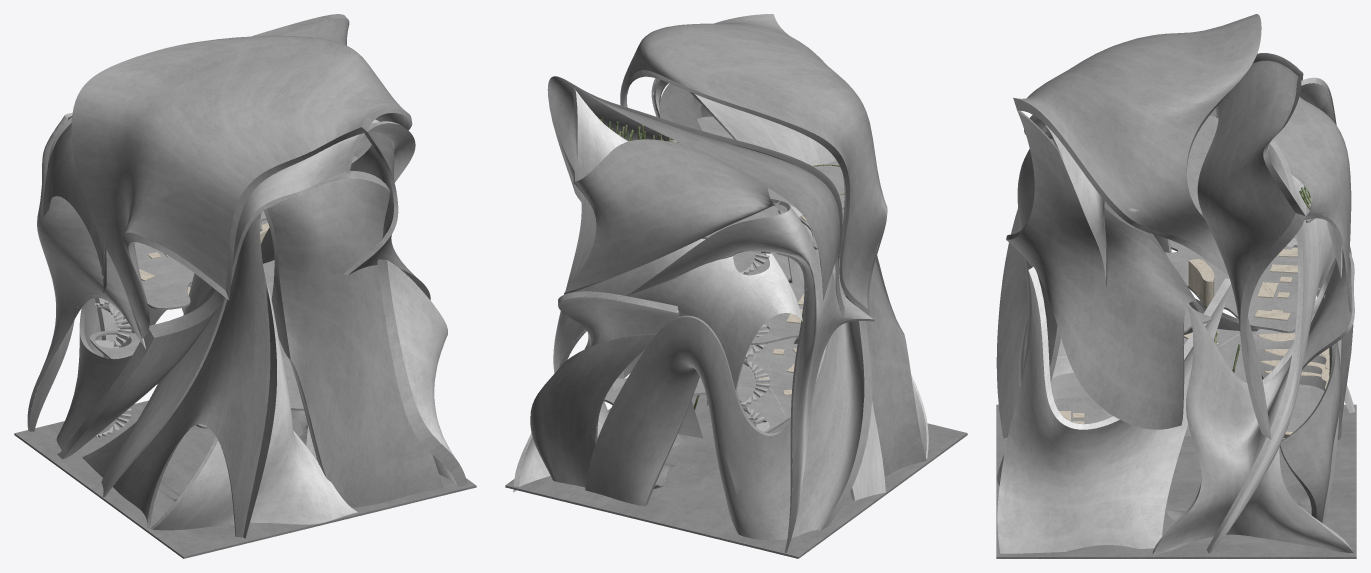
3 views of the same model, side by side, from view 1: azimuth 30°, elevation 25°; view 2: azimuth 150°, elevation 25°; view 3: azimuth 270°, elevation 25° (orthographic). The views are drawn at different scales.
Parts seen in each view (by area): view 1: KDOCIINE-50K-2024 yeni 2; view 2: KDOCIINE-50K-2024 yeni 2; view 3: KDOCIINE-50K-2024 yeni 2.
Part boxes in pixels (x1,y1,x2,y2): KDOCIINE-50K-2024 yeni 2: (14, 14, 476, 558); KDOCIINE-50K-2024 yeni 2: (505, 14, 967, 558); KDOCIINE-50K-2024 yeni 2: (996, 14, 1356, 558).
Bounding box in the file's own units: 32 × 42.28 × 32.
7 materials, 6 textured.
